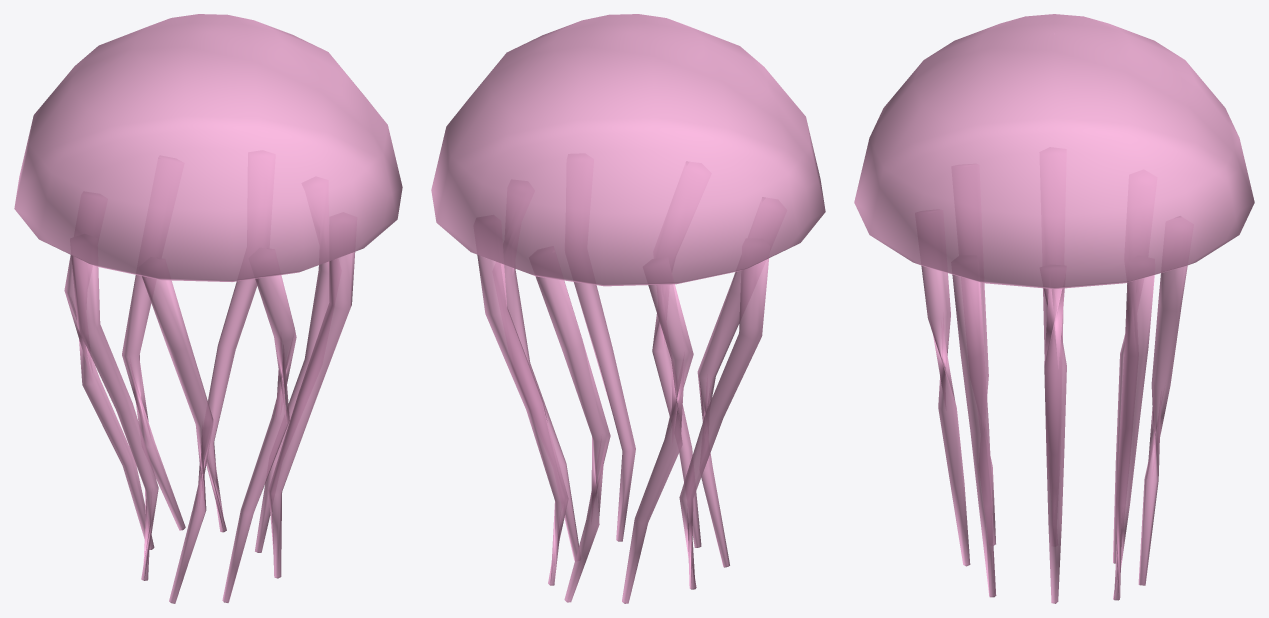
Rendered from sea-jellyfish.glb.
3 renders of one model, left to right at view 1: azimuth 30°, elevation 25°; view 2: azimuth 150°, elevation 25°; view 3: azimuth 270°, elevation 25°, orthographic. The views are drawn at different scales.
Visible parts, largest first — view 1: body; view 2: body; view 3: body.
Boxes of the visible parts, <box> form: body: <box>14,14,402,603</box>; body: <box>431,14,825,603</box>; body: <box>854,14,1254,603</box>.
Size of the model in its own units: 1.6 by 2.4 by 1.6.
